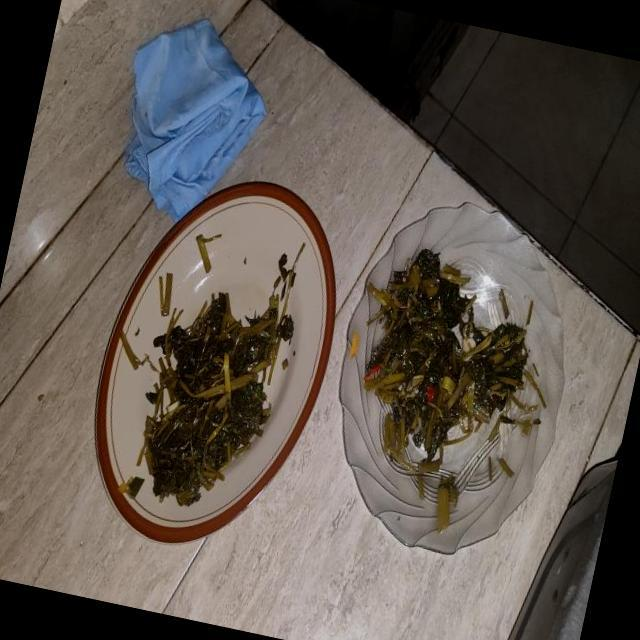tumis_kangkung: (364, 248, 533, 474), (143, 292, 293, 506)
